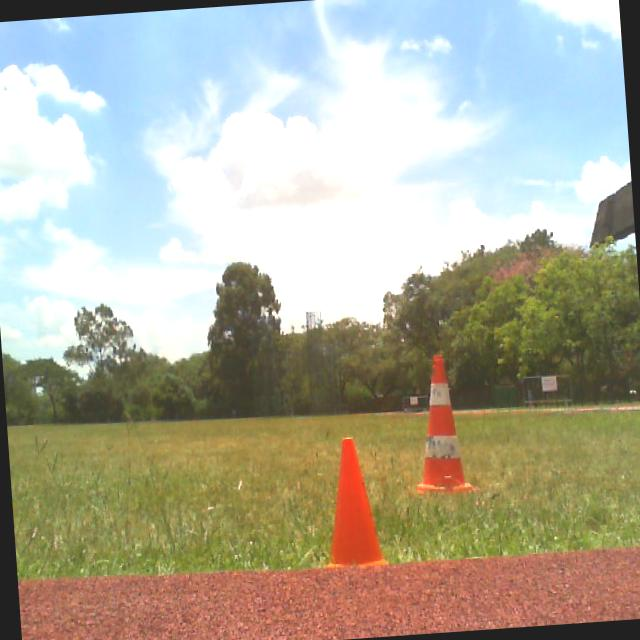cone: (407, 352, 473, 492), (318, 435, 387, 568)
